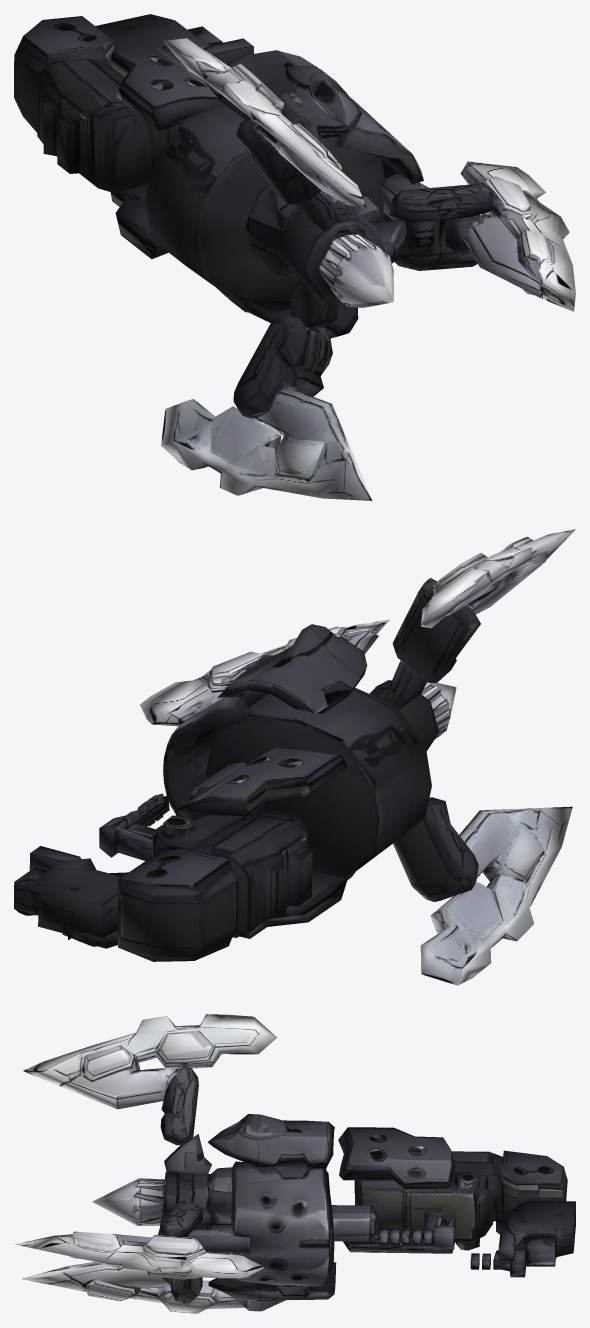
The picture shows the model from 3 angles, top to bottom: view 1: azimuth 30°, elevation 25°; view 2: azimuth 150°, elevation 25°; view 3: azimuth 270°, elevation 25°; orthographic projection. The views are drawn at different scales.
Visible parts, largest first — view 1: gun; view 2: gun; view 3: gun.
Boxes of the visible parts, x1,y1,x2,y2 form: gun: (14, 14, 575, 500); gun: (14, 529, 575, 985); gun: (14, 1014, 575, 1313).
Bounding box in the file's own units: 3.16 × 3.6 × 6.27.
1 material, 1 textured.
